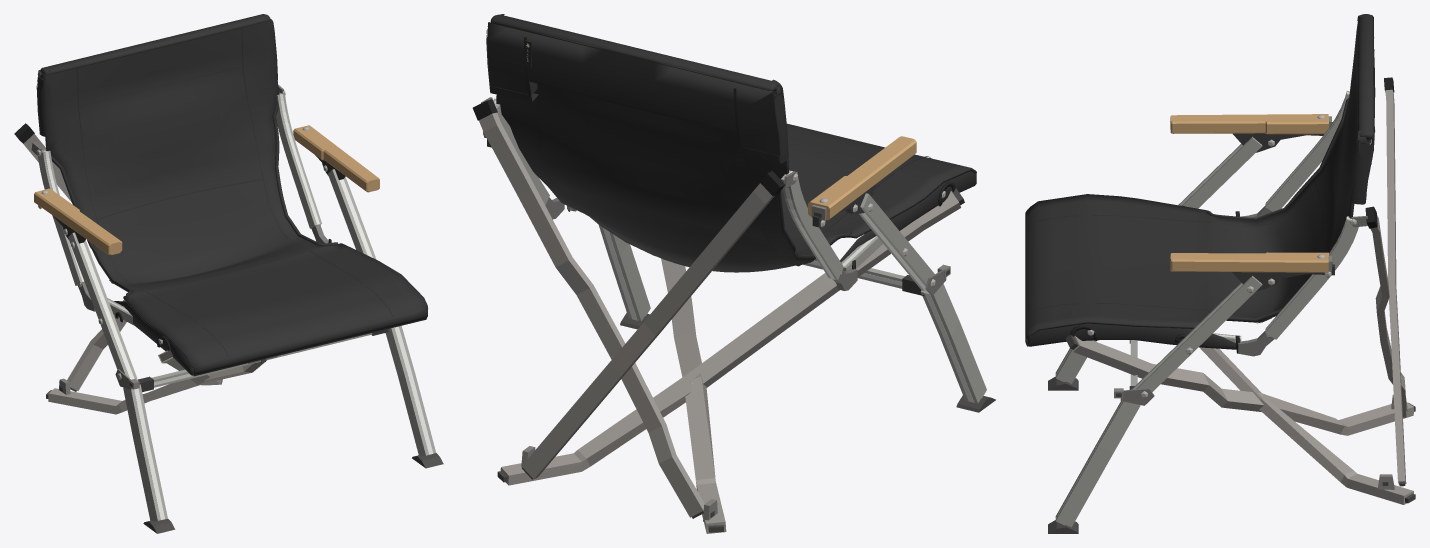
The model's file is snowpeak-entry-low-chair-short.glb.
3 renders of one model, left to right at view 1: azimuth 30°, elevation 25°; view 2: azimuth 150°, elevation 25°; view 3: azimuth 270°, elevation 25°, orthographic. The views are drawn at different scales.
Parts seen in each view (by area): view 1: snowpeak-entry-low-chair-short-cloth, snowpeak-entry-low-chair-short-frame, snowpeak-entry-low-chair-short-xtube, snowpeak-entry-low-chair-short-bamboo, snowpeak-entry-low-chair-short-shine, snowpeak-entry-low-chair-short-stitch, snowpeak-entry-low-chair-short-trim, snowpeak-entry-low-chair-short-pad, snowpeak-entry-low-chair-short-metal, snowpeak-entry-low-chair-short-plate; view 2: snowpeak-entry-low-chair-short-cloth, snowpeak-entry-low-chair-short-xtube, snowpeak-entry-low-chair-short-frame, snowpeak-entry-low-chair-short-panel, snowpeak-entry-low-chair-short-bamboo, snowpeak-entry-low-chair-short-shine, snowpeak-entry-low-chair-short-trim, snowpeak-entry-low-chair-short-metal, snowpeak-entry-low-chair-short-pad, snowpeak-entry-low-chair-short-cap, snowpeak-entry-low-chair-short-plate, snowpeak-entry-low-chair-short-chrome (+1 smaller); view 3: snowpeak-entry-low-chair-short-cloth, snowpeak-entry-low-chair-short-xtube, snowpeak-entry-low-chair-short-frame, snowpeak-entry-low-chair-short-bamboo, snowpeak-entry-low-chair-short-shine, snowpeak-entry-low-chair-short-plate, snowpeak-entry-low-chair-short-metal, snowpeak-entry-low-chair-short-trim, snowpeak-entry-low-chair-short-pad, snowpeak-entry-low-chair-short-stitch, snowpeak-entry-low-chair-short-chrome.
Part boxes in pixels (x1,y1,x2,y2): snowpeak-entry-low-chair-short-cloth: (36, 14, 428, 376); snowpeak-entry-low-chair-short-frame: (38, 92, 436, 521); snowpeak-entry-low-chair-short-xtube: (23, 134, 266, 414); snowpeak-entry-low-chair-short-bamboo: (34, 125, 379, 255); snowpeak-entry-low-chair-short-shine: (43, 94, 433, 519); snowpeak-entry-low-chair-short-stitch: (76, 28, 393, 357); snowpeak-entry-low-chair-short-trim: (39, 74, 337, 295); snowpeak-entry-low-chair-short-pad: (46, 350, 443, 533); snowpeak-entry-low-chair-short-metal: (31, 84, 328, 389); snowpeak-entry-low-chair-short-plate: (52, 155, 388, 391); snowpeak-entry-low-chair-short-cloth: (486, 14, 976, 272); snowpeak-entry-low-chair-short-xtube: (479, 112, 960, 533); snowpeak-entry-low-chair-short-frame: (493, 98, 986, 403); snowpeak-entry-low-chair-short-panel: (496, 94, 813, 265); snowpeak-entry-low-chair-short-bamboo: (483, 126, 916, 220); snowpeak-entry-low-chair-short-shine: (494, 100, 974, 402); snowpeak-entry-low-chair-short-trim: (489, 85, 851, 266); snowpeak-entry-low-chair-short-metal: (481, 97, 946, 295); snowpeak-entry-low-chair-short-pad: (497, 188, 995, 532); snowpeak-entry-low-chair-short-cap: (472, 99, 785, 196); snowpeak-entry-low-chair-short-plate: (487, 139, 924, 295); snowpeak-entry-low-chair-short-chrome: (484, 133, 950, 521); snowpeak-entry-low-chair-short-cloth: (1025, 14, 1375, 349); snowpeak-entry-low-chair-short-xtube: (1072, 89, 1413, 504); snowpeak-entry-low-chair-short-frame: (1055, 90, 1358, 527); snowpeak-entry-low-chair-short-bamboo: (1170, 114, 1328, 272); snowpeak-entry-low-chair-short-shine: (1055, 92, 1351, 519); snowpeak-entry-low-chair-short-plate: (1129, 133, 1334, 389); snowpeak-entry-low-chair-short-metal: (1120, 206, 1369, 405); snowpeak-entry-low-chair-short-trim: (1206, 98, 1366, 321); snowpeak-entry-low-chair-short-pad: (1048, 122, 1415, 533); snowpeak-entry-low-chair-short-stitch: (1026, 35, 1374, 315); snowpeak-entry-low-chair-short-chrome: (1114, 116, 1407, 489).
Bounding box in the file's own units: 0.5882 × 0.689 × 0.6343.
